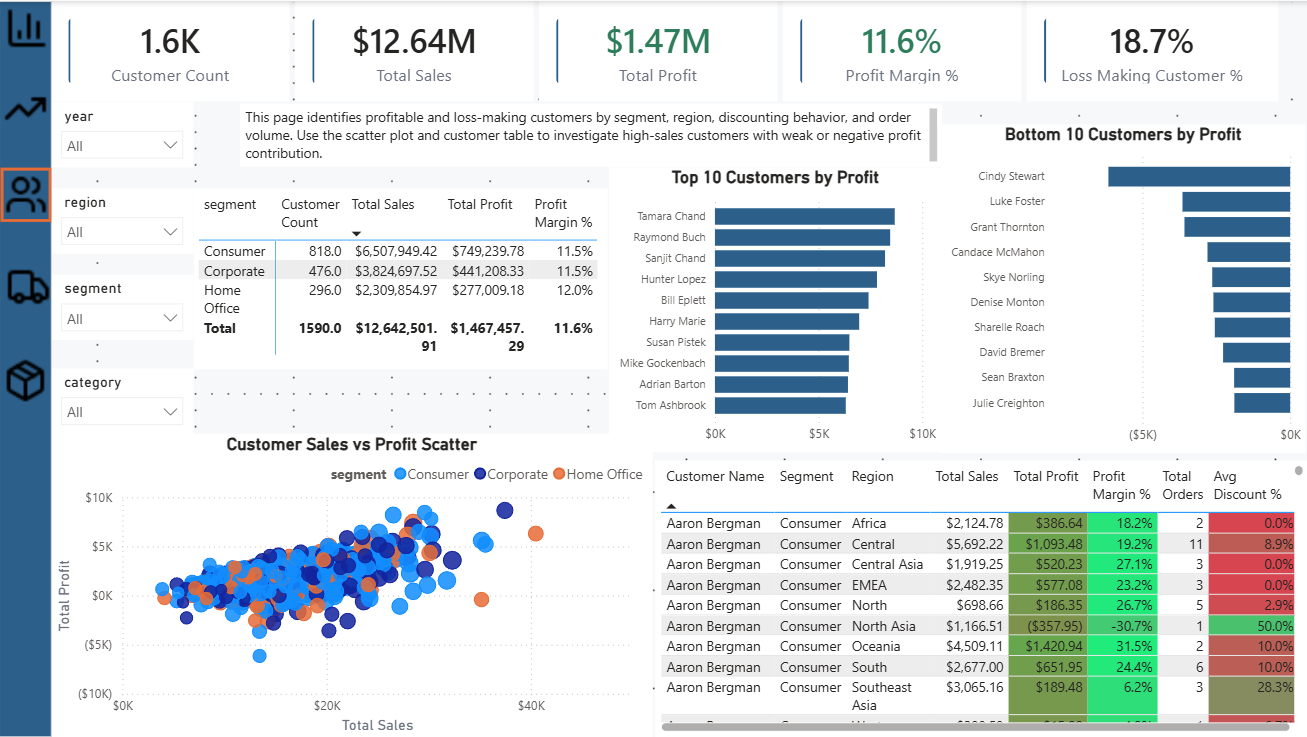

What the dashboard file says about the page in this screenshot:
{"tool":"powerbi","page":{"name":"Customer Performance","canvas":[1280,720],"ordinal":2},"visuals":[{"type":"shape","box":[0,0,51.7,720],"z":0,"group":"g1"},{"type":"cardVisual","fields":{"Data":["_Measures.Customer Count"]},"box":[51.3,0,233.2,98.4],"z":0},{"type":"actionButton","box":[1.7,0,51.7,53.3],"z":1000,"group":"g1"},{"type":"cardVisual","fields":{"Data":["_Measures.Total Sales"]},"box":[289.8,0,233.2,98.4],"z":1000},{"type":"cardVisual","fields":{"Data":["_Measures.Total Profit"]},"box":[528.4,0,233.2,98.4],"z":2000},{"type":"actionButton","box":[0,78.3,51.7,53.3],"z":2000,"group":"g1"},{"type":"cardVisual","fields":{"Data":["_Measures.Profit Margin %"]},"box":[766.9,0,233.2,98.4],"z":3000},{"type":"actionButton","box":[1.7,163.3,50,53.3],"z":3000,"group":"g1"},{"type":"cardVisual","fields":{"Data":["_Measures.Loss Making Customer %"]},"box":[1005.4,0,246,98.4],"z":4000},{"type":"actionButton","box":[3.3,253.3,51.7,53.3],"z":4000,"group":"g1"},{"type":"slicer","fields":{"Values":["dim.date.year"]},"box":[51.3,98.4,139,64.2],"z":5000},{"type":"actionButton","box":[0,345,51.7,53.3],"z":5000,"group":"g1"},{"type":"slicer","fields":{"Values":["dim.geography.region"]},"box":[51.3,184,139,64.2],"z":6000},{"type":"slicer","fields":{"Values":["dim.customer.segment"]},"box":[51.3,267.4,139,64.2],"z":7000},{"type":"slicer","fields":{"Values":["dim.product.category"]},"box":[51.3,359.4,139,64.2],"z":8000},{"type":"clusteredBarChart","title":"Top 10 Customers by Profit","fields":{"Y":["_Measures.Total Profit"],"Category":["dim.customer.customer_name"]},"box":[595.7,162.9,325.7,278.6],"z":9000},{"type":"clusteredBarChart","title":"Bottom 10 Customers by Profit","fields":{"Y":["_Measures.Total Profit"],"Category":["dim.customer.customer_name"]},"box":[921.4,120,357.1,321.4],"z":10000},{"type":"scatterChart","title":"Customer Sales vs Profit Scatter","fields":{"X":["_Measures.Total Sales"],"Y":["_Measures.Total Profit"],"Size":["_Measures.Total Orders"],"Series":["dim.customer.segment"],"Category":["dim.customer.customer_name"]},"box":[51.3,423.5,588.2,297.3],"z":11000},{"type":"tableEx","fields":{"Values":["dim.customer.customer_name","dim.customer.segment","dim.geography.region","_Measures.Total Sales","_Measures.Total Profit","_Measures.Profit Margin %","_Measures.Total Orders","_Measures.Average Discount"]},"box":[641,450,639,270],"z":12000},{"type":"textbox","box":[235.3,100.5,686.6,62],"z":13000},{"type":"pivotTable","fields":{"Rows":["dim.customer.segment"],"Values":["_Measures.Customer Count","_Measures.Total Sales","_Measures.Total Profit","_Measures.Profit Margin %"]},"box":[190.7,183.7,404.7,176.7],"z":14000},{"type":"group","id":"g1","title":"Group 1","box":[0,0,55,720],"z":14001}]}

Visuals, with their boxes on the page's 1280x720 design canvas (x1, y1, x2, y2). These are canvas units, not pixel positions in the 1307x737 screenshot, which may show the page scaled, cropped or inside an application window:
shape: rect(0, 0, 52, 720)
cardVisual - _Measures.Customer Count: rect(51, 0, 284, 98)
actionButton: rect(2, 0, 53, 53)
cardVisual - _Measures.Total Sales: rect(290, 0, 523, 98)
cardVisual - _Measures.Total Profit: rect(528, 0, 762, 98)
actionButton: rect(0, 78, 52, 132)
cardVisual - _Measures.Profit Margin %: rect(767, 0, 1000, 98)
actionButton: rect(2, 163, 52, 217)
cardVisual - _Measures.Loss Making Customer %: rect(1005, 0, 1251, 98)
actionButton: rect(3, 253, 55, 307)
slicer - dim.date.year: rect(51, 98, 190, 163)
actionButton: rect(0, 345, 52, 398)
slicer - dim.geography.region: rect(51, 184, 190, 248)
slicer - dim.customer.segment: rect(51, 267, 190, 332)
slicer - dim.product.category: rect(51, 359, 190, 424)
"Top 10 Customers by Profit" clusteredBarChart: rect(596, 163, 921, 442)
"Bottom 10 Customers by Profit" clusteredBarChart: rect(921, 120, 1278, 441)
"Customer Sales vs Profit Scatter" scatterChart: rect(51, 424, 640, 721)
tableEx - dim.customer.customer_name x dim.customer.segment: rect(641, 450, 1280, 720)
textbox: rect(235, 100, 922, 162)
pivotTable - dim.customer.segment x _Measures.Customer Count: rect(191, 184, 595, 360)
"Group 1" group: rect(0, 0, 55, 720)
